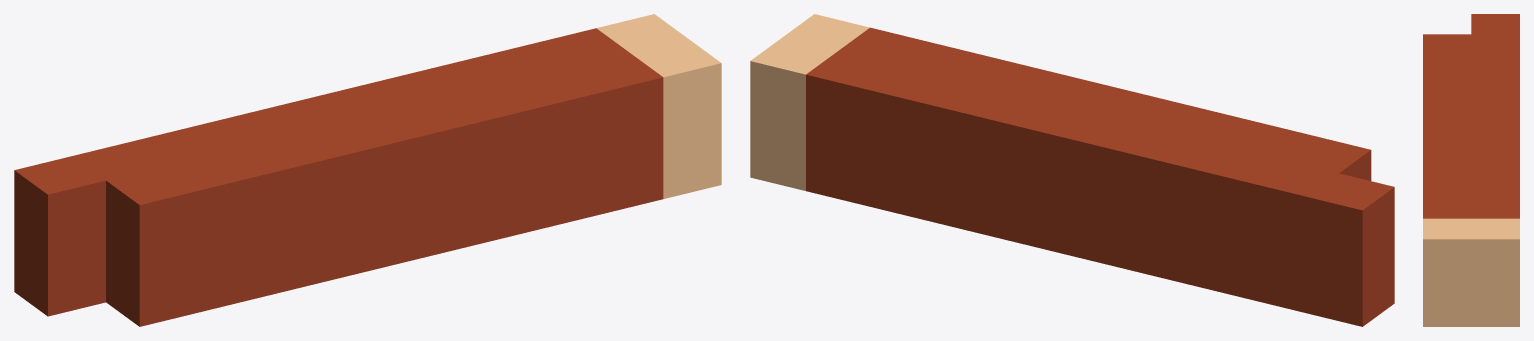
File: arm.obj
The picture shows the model from 3 angles, left to right: view 1: azimuth 30°, elevation 25°; view 2: azimuth 150°, elevation 25°; view 3: azimuth 270°, elevation 25°; orthographic projection. The views are drawn at different scales.
Bounding box in the file's own units: 11 × 2 × 2.
1 material, 1 textured.
